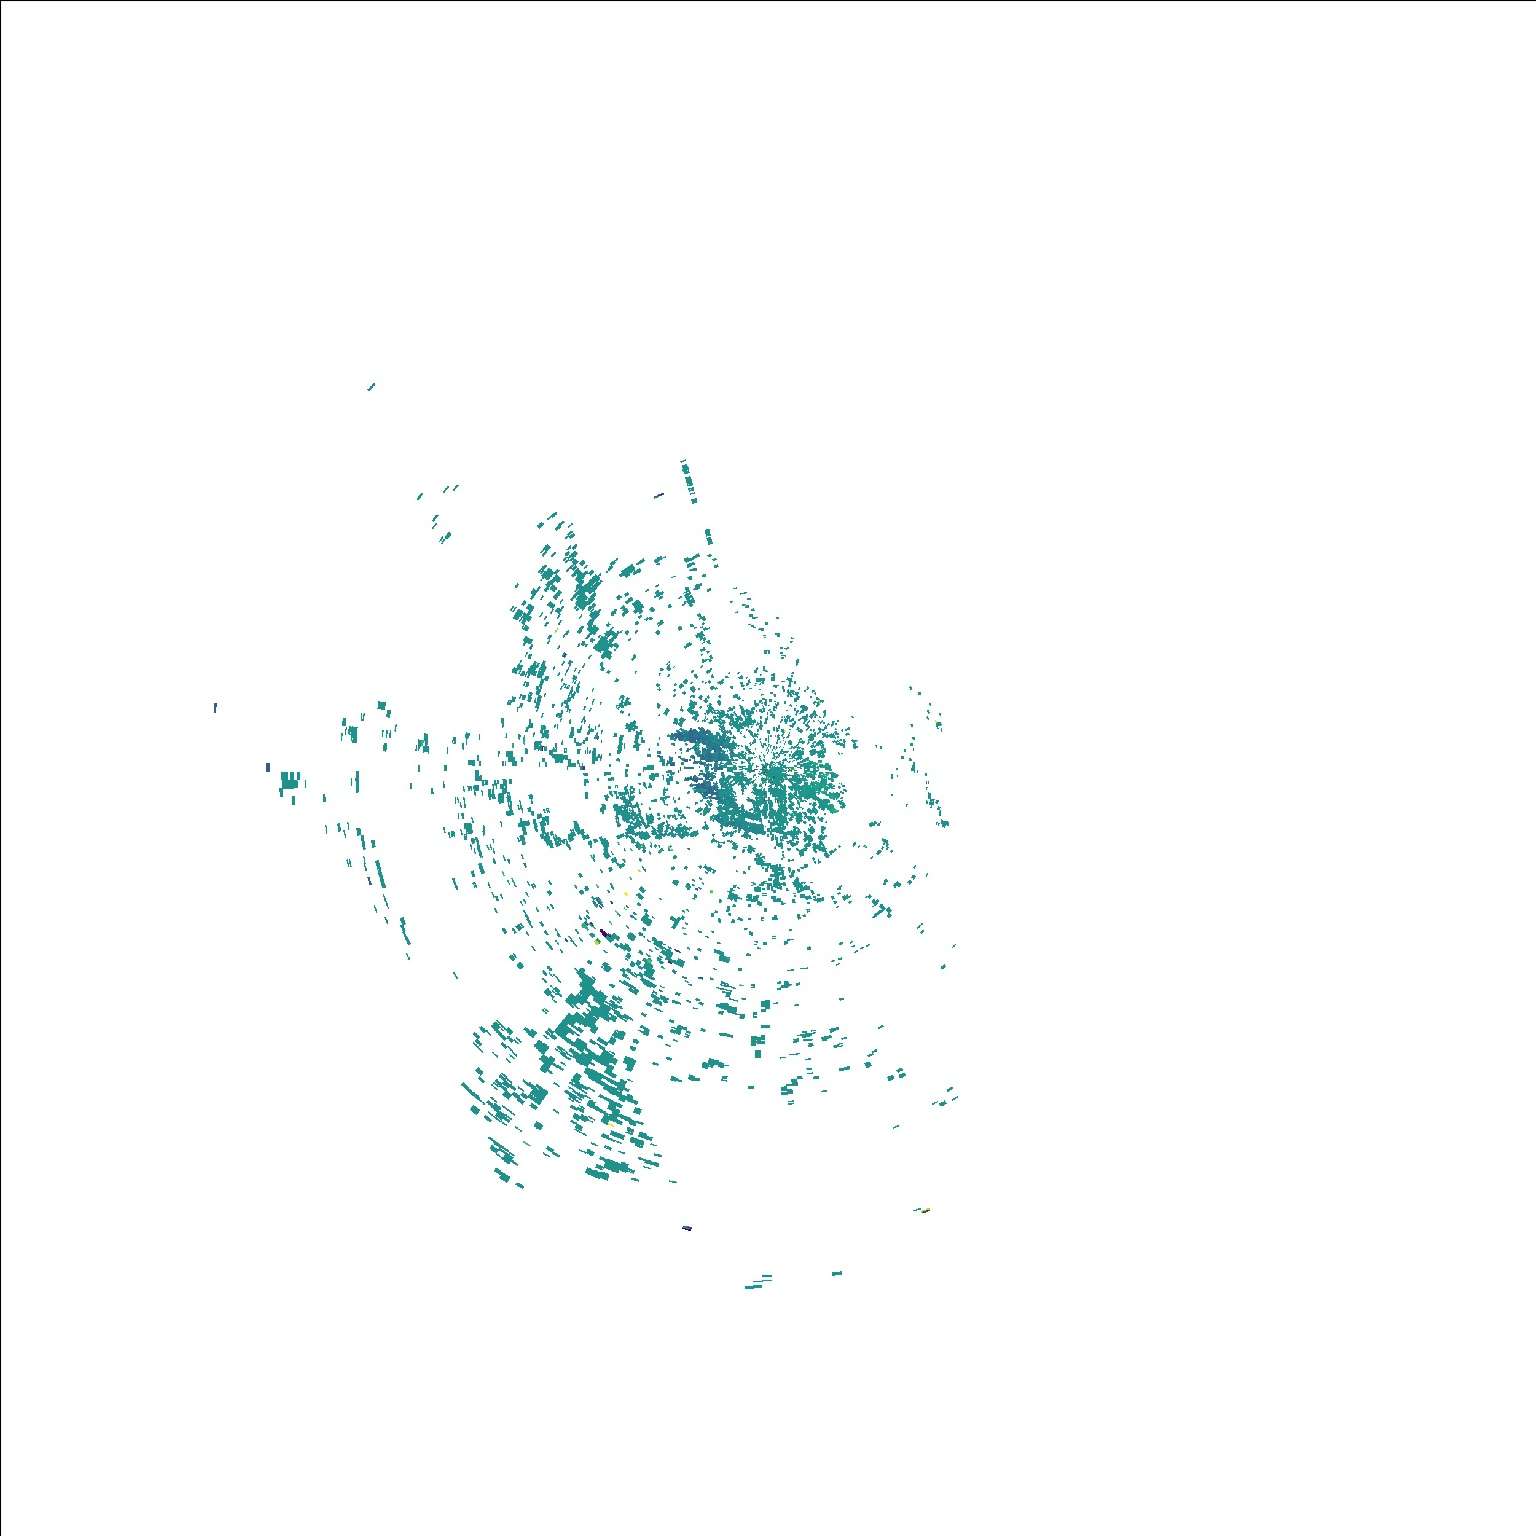fall: (648, 484, 670, 499)
